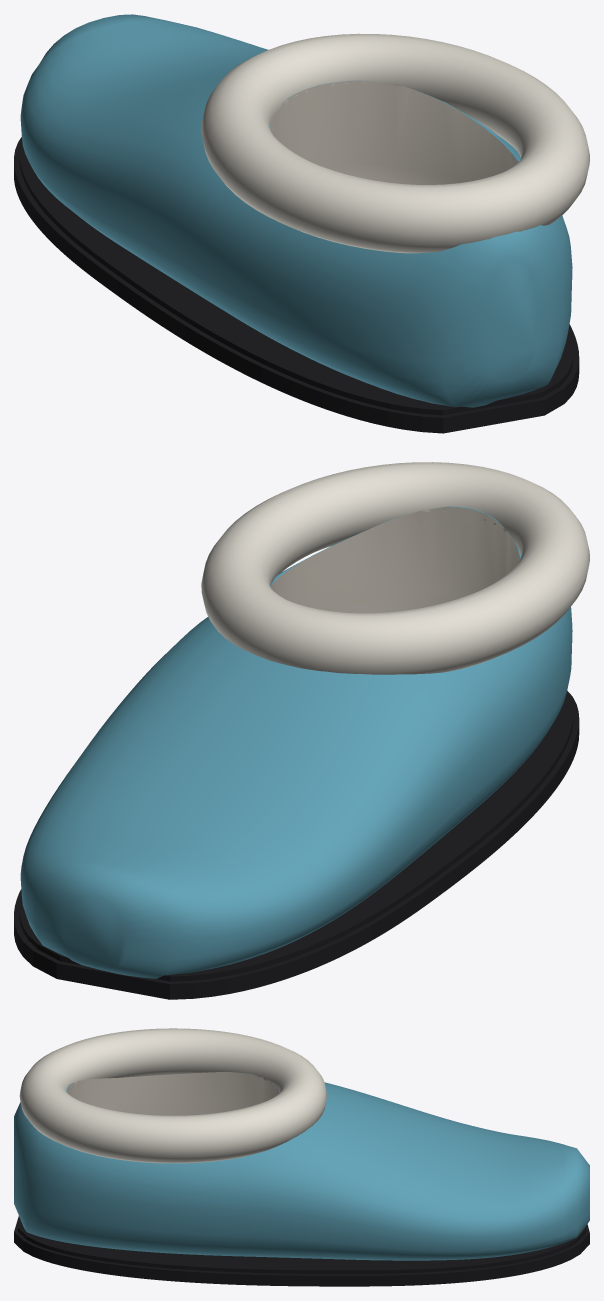
Rendered from Slipper3.fbx.
The picture shows the model from 3 angles, top to bottom: view 1: azimuth 30°, elevation 25°; view 2: azimuth 150°, elevation 25°; view 3: azimuth 270°, elevation 25°; orthographic projection. The views are drawn at different scales.
Parts seen in each view (by area): view 1: SlipperUpper, SlipperRim, SlipperSole; view 2: SlipperUpper, SlipperRim, SlipperSole; view 3: SlipperUpper, SlipperRim, SlipperSole.
Part boxes in pixels (x1,y1,x2,y2): SlipperUpper: (20,14,572,407); SlipperRim: (201,33,589,253); SlipperSole: (14,137,579,433); SlipperUpper: (20,506,572,978); SlipperRim: (201,462,589,674); SlipperSole: (14,690,579,999); SlipperUpper: (14,1071,589,1260); SlipperRim: (19,1028,326,1163); SlipperSole: (14,1216,589,1286).
Bounding box in the file's own units: 0.1975 × 0.1336 × 0.4345.
